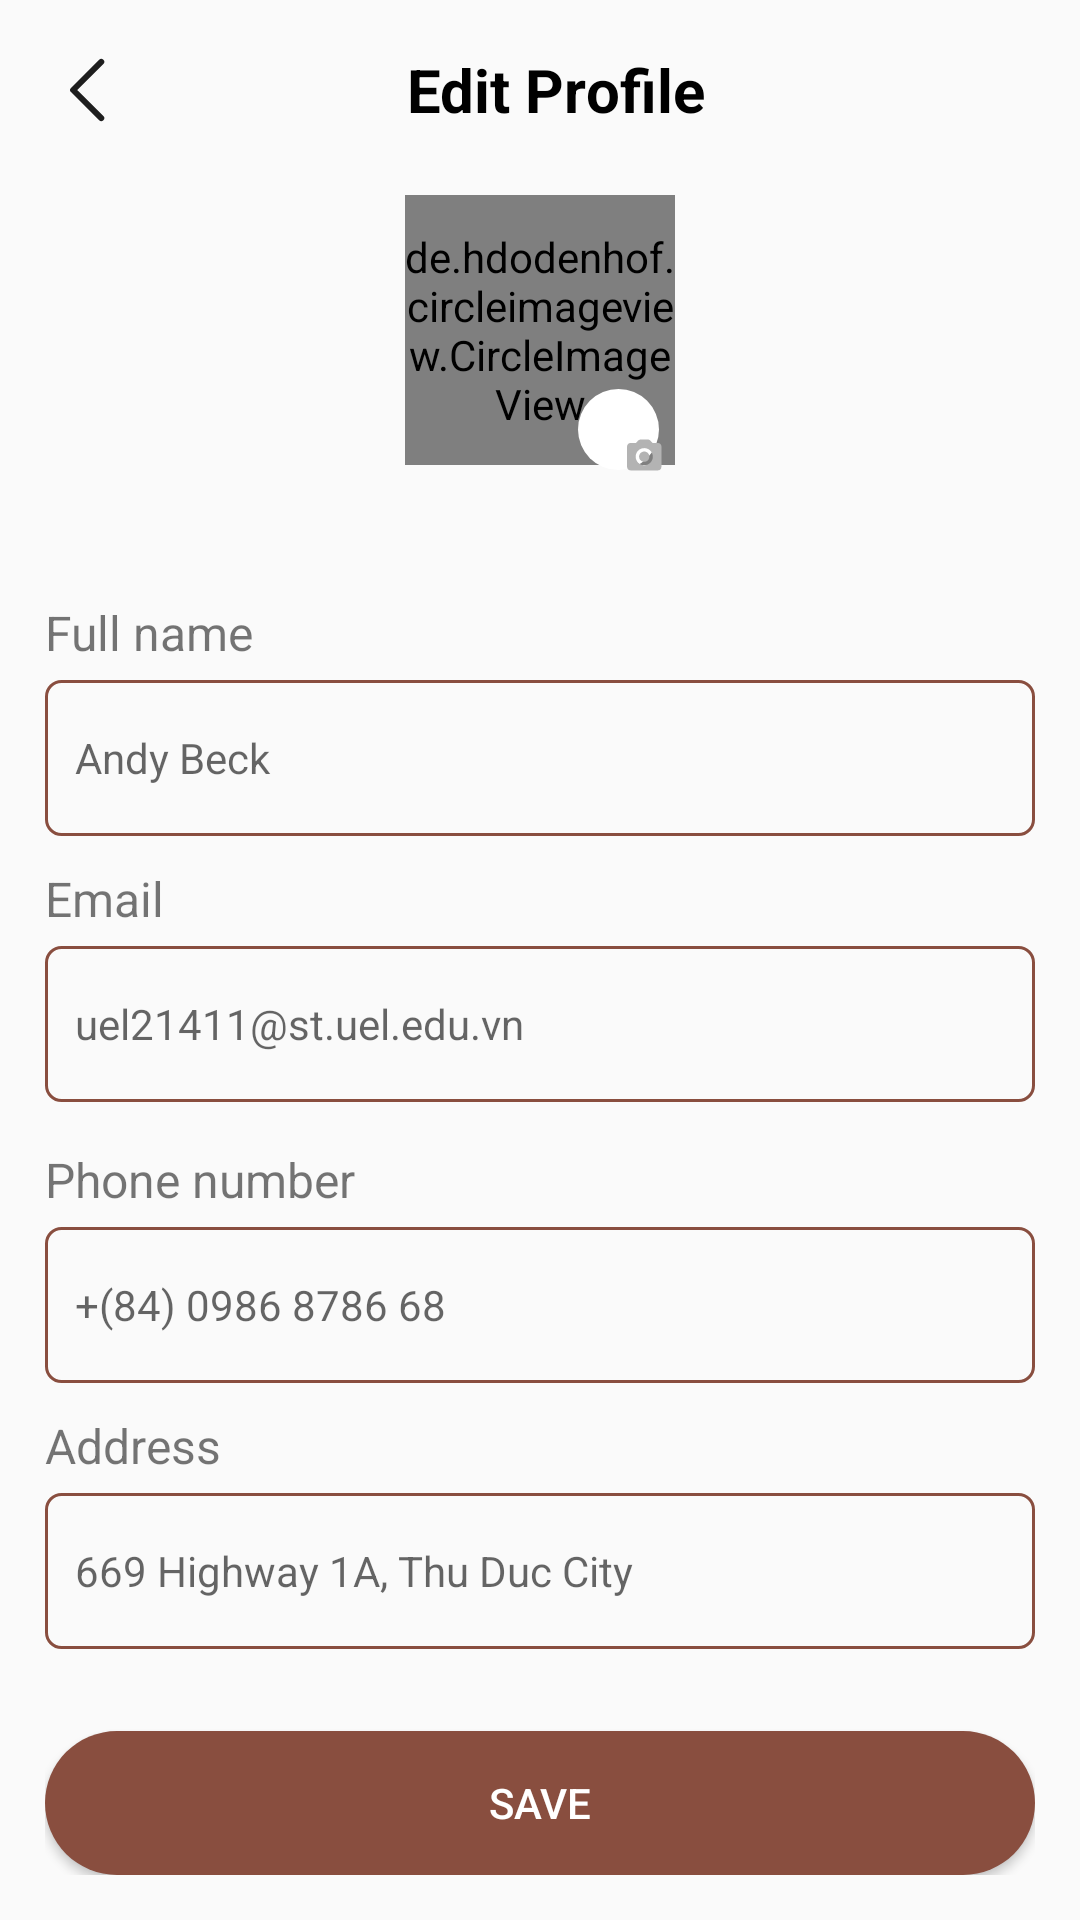

Where icons sit on this 1080×1920 app screen, as region(x1, y1, x2, y2):
back: region(70, 58, 105, 122)
